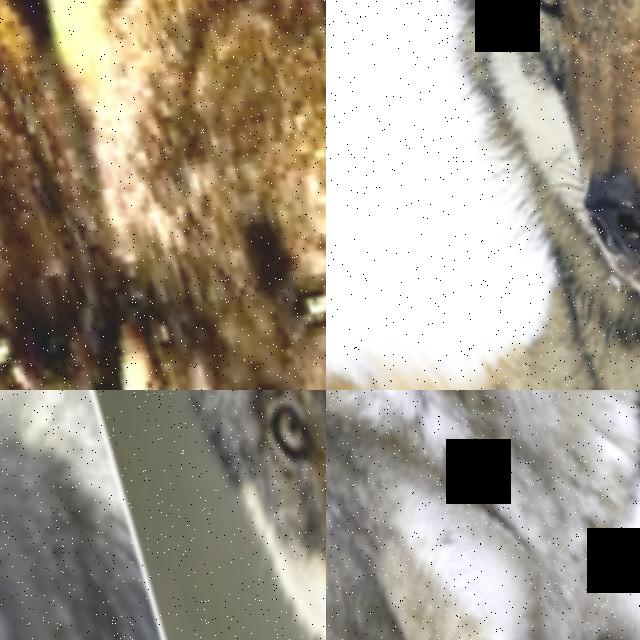wolf: (0, 0, 326, 390), (326, 0, 640, 390), (0, 0, 256, 390), (326, 390, 640, 640), (0, 390, 226, 640), (116, 390, 326, 640)
